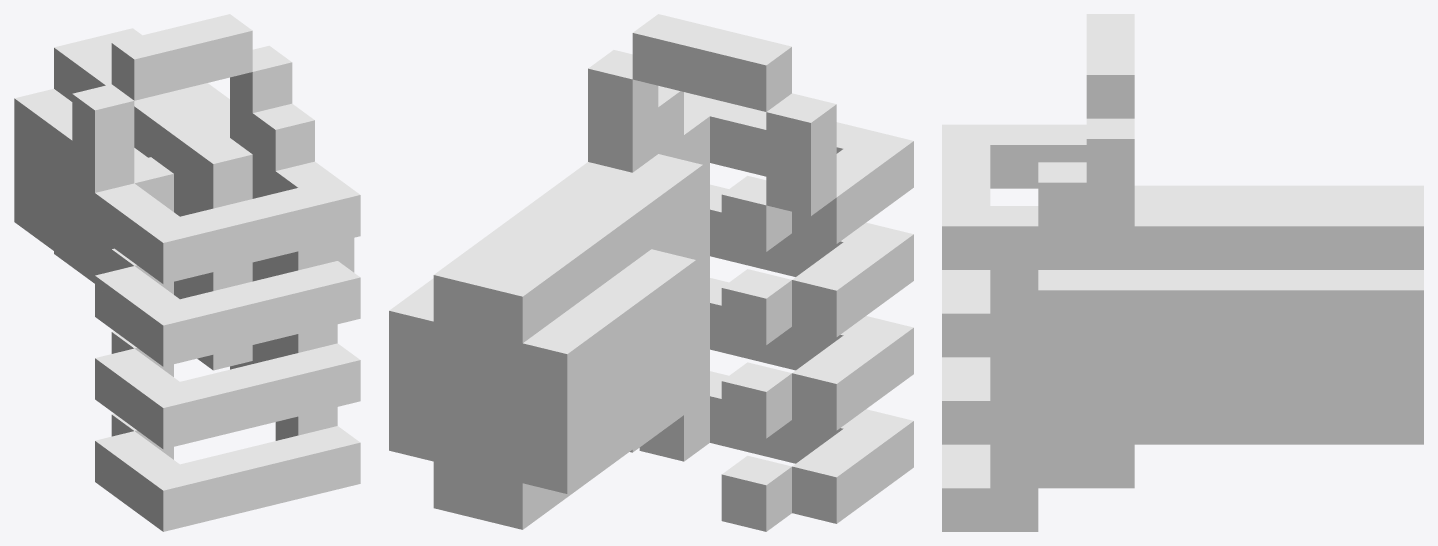
Rendered from skelet-4.obj.
The picture shows the model from 3 angles, left to right: view 1: azimuth 30°, elevation 25°; view 2: azimuth 150°, elevation 25°; view 3: azimuth 270°, elevation 25°; orthographic projection. The views are drawn at different scales.
Size of the model in its own units: 0.6 by 1 by 1.
Materials: 1 (1 with a texture image).
